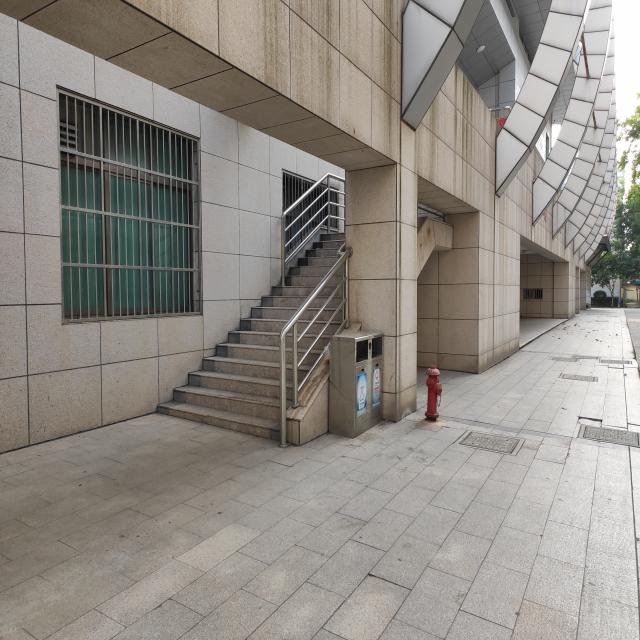ash bin: (327, 330, 385, 438)
fire_hydrant: (424, 362, 443, 421)
